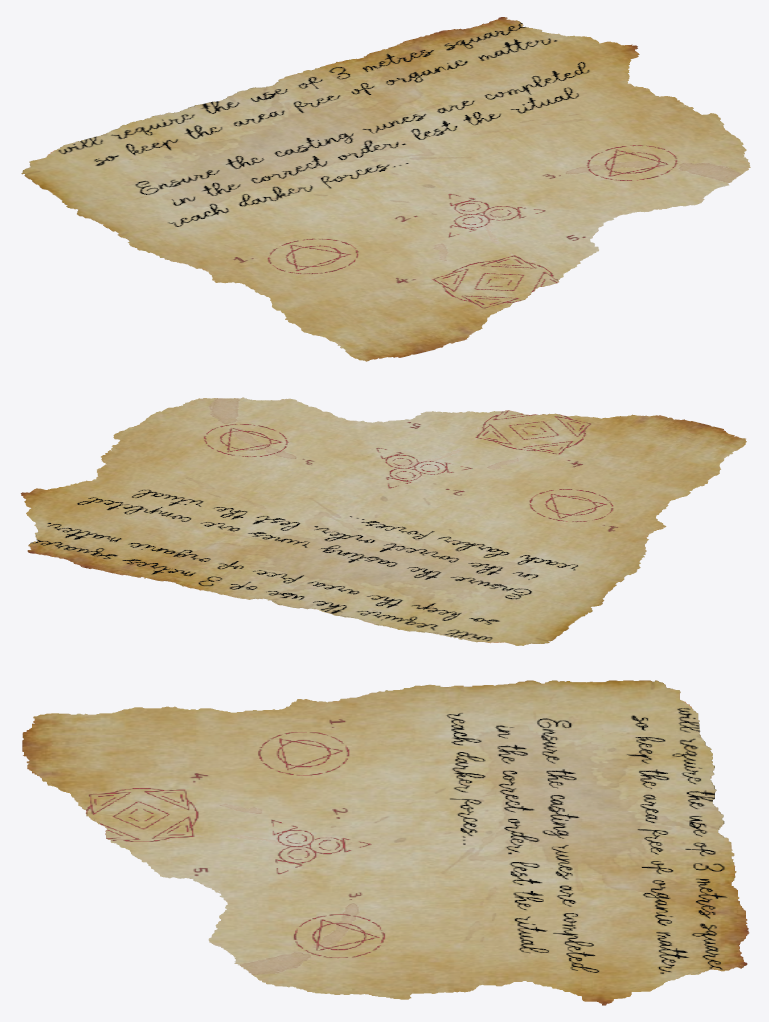
File: NoteForBookshelf.fbx
3 views of the same model, one above another, from view 1: azimuth 30°, elevation 25°; view 2: azimuth 150°, elevation 25°; view 3: azimuth 270°, elevation 25° (orthographic). The views are drawn at different scales.
Visible parts, largest first — view 1: NoteForBookshelf; view 2: NoteForBookshelf; view 3: NoteForBookshelf.
Part boxes in pixels (bbox=[...]): NoteForBookshelf: bbox=[21, 17, 750, 361]; NoteForBookshelf: bbox=[20, 397, 746, 645]; NoteForBookshelf: bbox=[22, 680, 749, 1005].
Size of the model in its own units: 199 by 0.5163 by 190.
